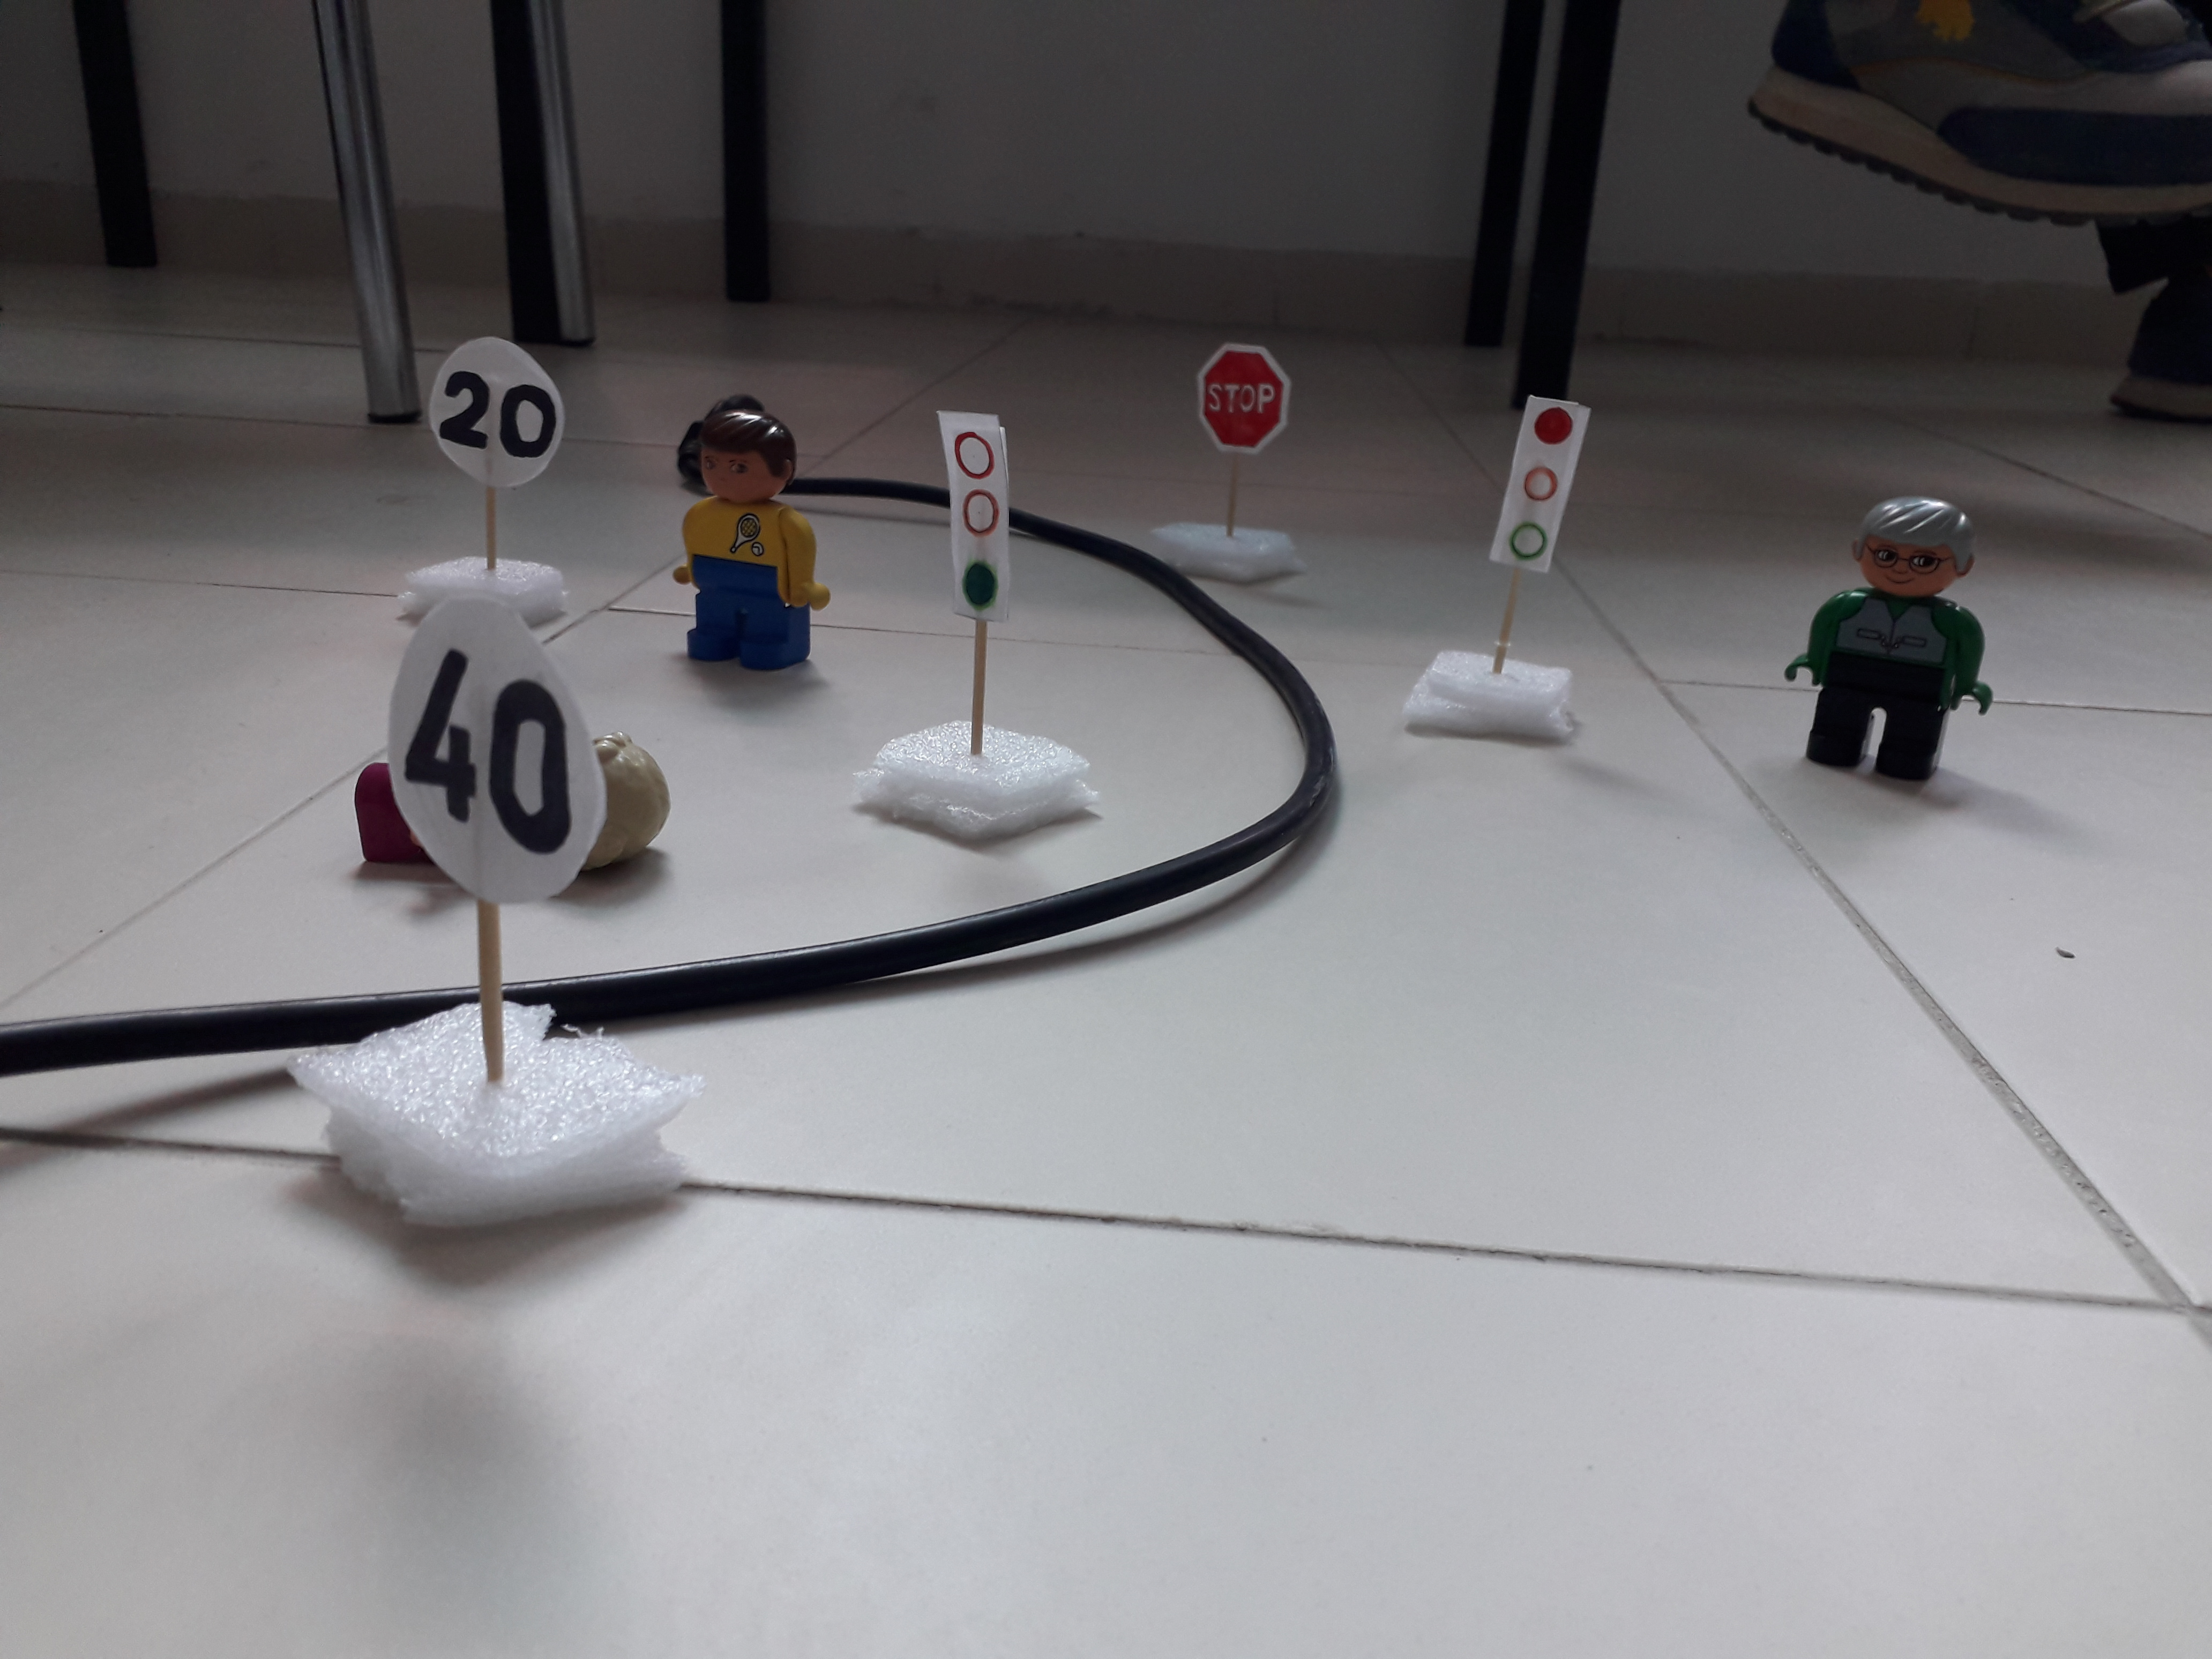20_sign: (428, 344, 571, 487)
40_sign: (390, 592, 612, 911)
green_light: (921, 406, 1023, 617)
person: (1786, 490, 2000, 796), (658, 395, 839, 686)
red_light: (1485, 390, 1584, 577)
stop_sign: (1189, 337, 1294, 461)
